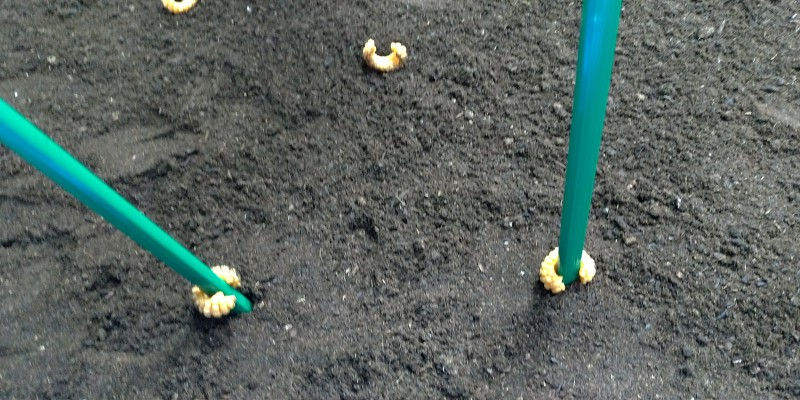eggs: (183, 258, 245, 323), (536, 243, 602, 299), (358, 34, 414, 76), (157, 1, 203, 20)
